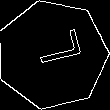L_W: (24, 33, 81, 76)
